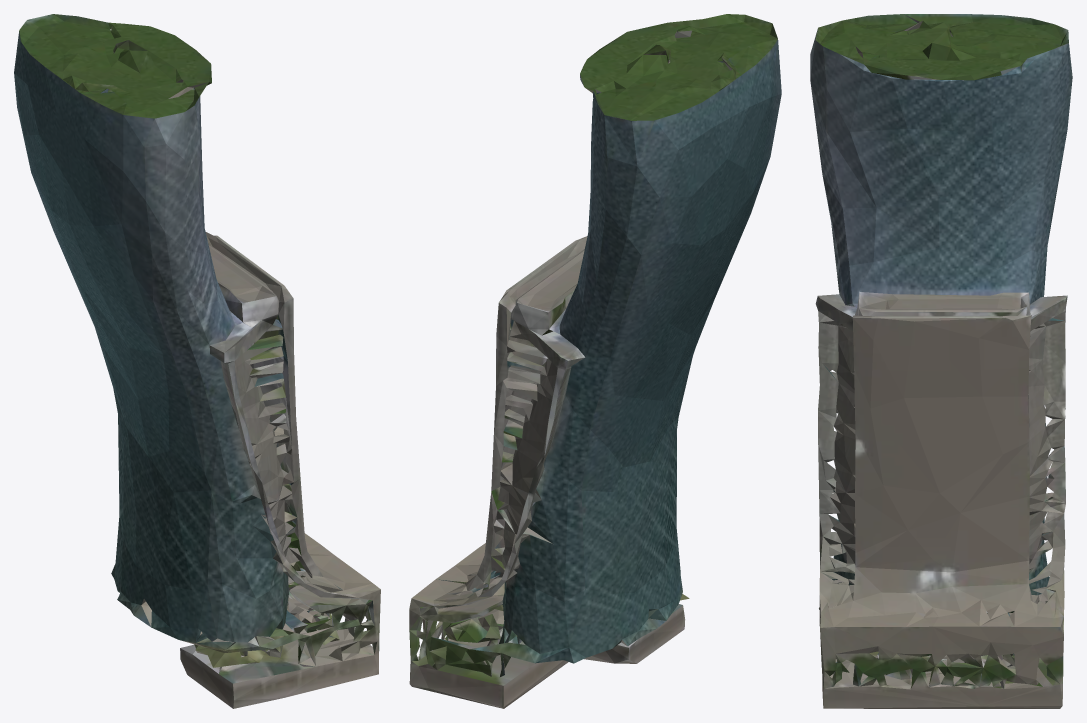
Rendered from torre_sol.glb.
3 renders of one model, left to right at view 1: azimuth 30°, elevation 25°; view 2: azimuth 150°, elevation 25°; view 3: azimuth 270°, elevation 25°, orthographic. The views are drawn at different scales.
Parts seen in each view (by area): view 1: tmpybb8xwkh.ply; view 2: tmpybb8xwkh.ply; view 3: tmpybb8xwkh.ply.
Part boxes in pixels (bbox=[...]): tmpybb8xwkh.ply: bbox=[14, 14, 380, 708]; tmpybb8xwkh.ply: bbox=[409, 14, 781, 708]; tmpybb8xwkh.ply: bbox=[810, 14, 1072, 708].
Bounding box in the file's own units: 0.8496 × 1.93 × 0.7725.
1 material, 1 textured.
